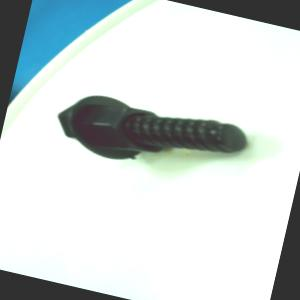parafuso: (48, 83, 252, 189), (49, 82, 252, 188)
